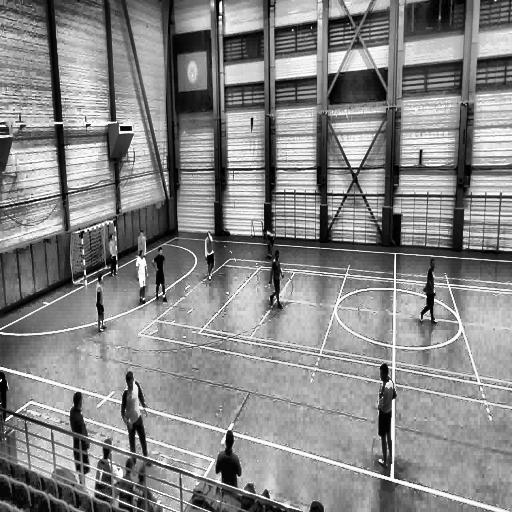player: (120, 372, 149, 474), (374, 358, 396, 468), (70, 392, 90, 491), (417, 260, 435, 326), (269, 249, 284, 310), (152, 248, 167, 302), (95, 272, 106, 332), (136, 250, 148, 305), (205, 231, 215, 282), (262, 224, 275, 261), (108, 234, 118, 276), (136, 230, 147, 258)
